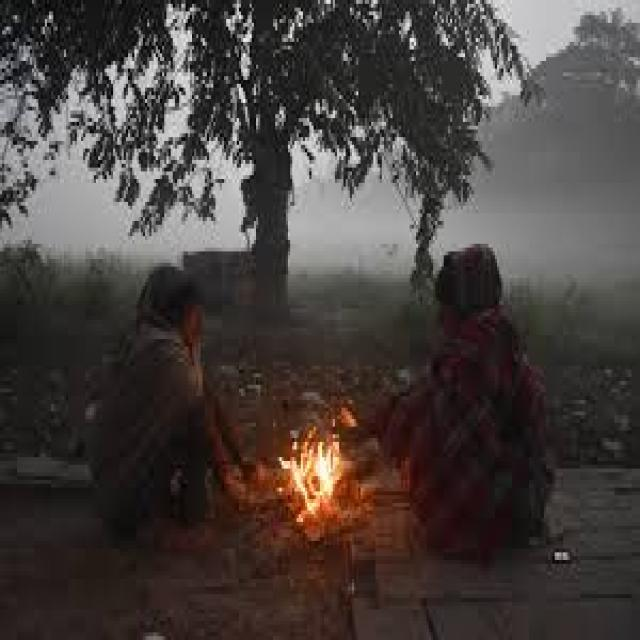fire: (278, 455, 315, 523), (315, 433, 343, 507)
